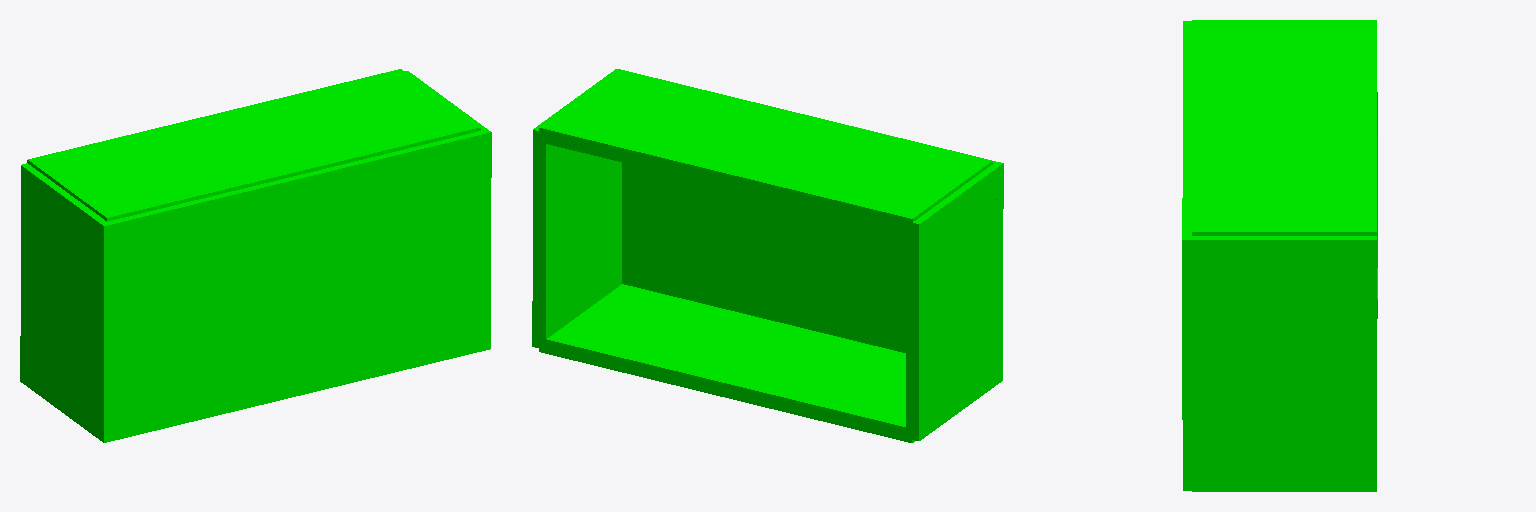
The robot description file, URDF, robot "cube.urdf":
<?xml version="0.0" ?>
<robot name="cube.urdf">
  <link name="baseLink">
    <contact>
      <lateral_friction value="2.0"/>
      <inertia_scaling value="3.0"/>
    </contact>
    <inertial>
      <origin rpy="0 0 0" xyz="0 0 0"/>
       <mass value=".05"/>
       <inertia ixx="1" ixy="0" ixz="0" iyy="1" iyz="0" izz="1"/>
    </inertial>
    <visual>
      <origin rpy="3.14 3.14 0" xyz="0 0 -0.1"/>
      <geometry>
        <mesh filename="model_new.obj" scale="0.8 0.8 0.6"/>
      </geometry>
       <material name="white">
        <color rgba="0.54 0.8 0 1"/>
      </material>
    </visual>
    <collision>
      <origin rpy="3.14 3.14 0" xyz="0 0 -0.1"/>
      <geometry>
        <mesh filename="model_new.obj" scale="0.8 0.8 0.6"/>
      </geometry>
    </collision>
  </link>
  <joint name="joint_baseLink_childA" type="prismatic">
    <parent link="baseLink"/>
    <child link="rear"/>
    <origin rpy="1.570 0 3.14" xyz="0.0 0.0 0.0"/>
    <axis xyz="0 1.0 0"/>
    <limit lower="0.0" upper="0.2" />
  </joint>

  <link name="down">
    <inertial>
      <origin rpy="0 0 0" xyz="0 0 0"/>
      <mass value="0.001"/>
      <inertia ixx="-4.46E-06" ixy="-4.55E-07" ixz="1.95E-06" iyy="-2.47E-06" iyz="8.51E-08" izz="2.17E-06"/>
    </inertial>
    <visual>
      <origin rpy="0 0 0" xyz="0 0 -0.05"/>
      <geometry>
        <box size=".28 .15 0.01"/>
      </geometry>
      <material name="green">
      </material> 
    </visual>
    <collision>
      <origin rpy="0 0 0" xyz="0 0 -0.05"/>
      <geometry>
        <box size=".28 .15 0.01"/>
      </geometry>
    </collision>
  </link>

  <link name="left">
    <inertial>
      <origin rpy="0 0 0" xyz="0 0 0"/>
      <mass value="0.001"/>
      <inertia ixx="-4.46E-06" ixy="-4.55E-07" ixz="1.95E-06" iyy="-2.47E-06" iyz="8.51E-08" izz="2.17E-06"/>
    </inertial>
    <visual>
      <origin rpy="0 0 0" xyz="0.135 0.0 0"/>
      <geometry>
        <box size=".01 .15 0.1"/>
      </geometry>
      <material name="green">
      </material> 
    </visual>
    <collision>
      <origin rpy="0 0 0" xyz="0.135 0 0"/>
      <geometry>
        <box size=".01 .15 0.1"/>
      </geometry>
    </collision>
  </link>

  <joint name="left_joint" type="fixed">
    <origin rpy="0 0 0" xyz="0 0 0"/>
    <parent link="down"/>
    <child link="left"/>
  </joint>

  <link name="right">
    <inertial>
      <mass value="0.001"/>
      <inertia ixx="-4.46E-06" ixy="-4.55E-07" ixz="1.95E-06" iyy="-2.47E-06" iyz="8.51E-08" izz="2.17E-06"/>
    </inertial>
    <visual>
      <origin rpy="0 0 0" xyz="-0.135 0.0 0"/>
      <geometry>
        <box size=".01 .15 0.1"/>
      </geometry>
      <material name="green">
      </material> 
    </visual>
    <collision>
      <origin rpy="0 0 0" xyz="-0.135 0 0"/>
      <geometry>
        <box size=".01 .15 0.1"/>
      </geometry>
    </collision>
  </link>

  <joint name="right_joint" type="fixed">
    <origin rpy="0 0 0" xyz="0 0 0"/>
    <parent link="down"/>
    <child link="right"/>
  </joint>

  <link name="front">
    <inertial>
      <mass value="0.001"/>
      <inertia ixx="-4.46E-06" ixy="-4.55E-07" ixz="1.95E-06" iyy="-2.47E-06" iyz="8.51E-08" izz="2.17E-06"/>
    </inertial>
    <visual>
      <origin rpy="0 0 0" xyz="0 0.0725 0"/>
      <geometry>
        <box size=".27 .01 0.1"/>
      </geometry>
      <material name="green">
      </material> 
    </visual>
    <collision>
      <origin rpy="0 0 0" xyz="0 0.0725 0"/>
      <geometry>
        <box size=".27 .01 0.1"/>
      </geometry>
    </collision>
  </link>

  <joint name="front_joint" type="fixed">
    <origin rpy="0 0 0" xyz="0 0 0"/>
    <parent link="down"/>
    <child link="front"/>
  </joint>

  <link name="rear">
    <inertial>
      <origin rpy="0 0 0" xyz="0 -0.0725 0"/>
      <mass value="0.001"/>
      <inertia ixx="-4.46E-06" ixy="-4.55E-07" ixz="1.95E-06" iyy="-2.47E-06" iyz="8.51E-08" izz="2.17E-06"/>
    </inertial>
    <visual>
      <origin rpy="0 0 0" xyz="0 -0.0725 0"/>
      <geometry>
        <box size=".27 .01 0.1"/>
      </geometry>
      <material name="green">
      </material> 
    </visual>
    <collision>
      <origin rpy="0 0 0" xyz="0 -0.0725 0"/>
      <geometry>
        <box size=".27 .01 0.1"/>
      </geometry>
    </collision>
  </link>

  <joint name="rear_joint" type="fixed">
    <origin rpy="0 0 0" xyz="0 0 0"/>
    <parent link="rear"/>
    <child link="down"/>
  </joint>


  <material name="panda_white">
    <color rgba="1. 1. 1. 1."/>
  </material>
  <material name="red">
    <color rgba="1.0 0. 0. 1.0"/>
  </material>
  <material name="blue">
    <color rgba="0. 0. 1. 1.0"/>
  </material>
  <material name="green">
    <color rgba="0. 1. 0. 1.0"/>
  </material>
<material name="Yellow">
  <color rgba="0.949 0.878 0.0392 1.0"/>
</material>
<material name="Blue">
  <color rgba="0.12156 0.3804 0.6745 1.0"/>
</material>
<material name="Red">
  <color rgba="0.9254901 0.243137 0.086274509 1.0"/>
</material>
</robot>

--- What the picture shows (computed from the rendered views, not written in the file) ---
Views: 3 orthographic renders of the robot side by side, from view 1: azimuth 30°, elevation 25°; view 2: azimuth 150°, elevation 25°; view 3: azimuth 270°, elevation 25°.
Model cube.urdf with 6 links and 5 joints (1 prismatic, 4 fixed), rooted at baseLink, posed all joints at 0.
Visible links, largest first — view 1: down, front, left; view 2: down, front, rear, left, right; view 3: right, front, down.
Link boxes in pixels (x1=…): down: x1=96, y1=129, x2=491, y2=442; front: x1=27, y1=69, x2=480, y2=221; left: x1=20, y1=163, x2=106, y2=439; down: x1=613, y1=69, x2=1003, y2=382; front: x1=539, y1=70, x2=992, y2=231; rear: x1=539, y1=284, x2=914, y2=442; left: x1=906, y1=165, x2=998, y2=440; right: x1=532, y1=72, x2=621, y2=349; right: x1=1192, y1=236, x2=1376, y2=490; front: x1=1192, y1=20, x2=1376, y2=235; down: x1=1182, y1=21, x2=1200, y2=490.
Bounding box of the posed robot: 0.2802 × 0.1056 × 0.1551 m (x, y, z).
0 mesh visuals loaded from 1 distinct referenced files (none loaded); not drawn: 1 (reference not matched to a file when rendering).